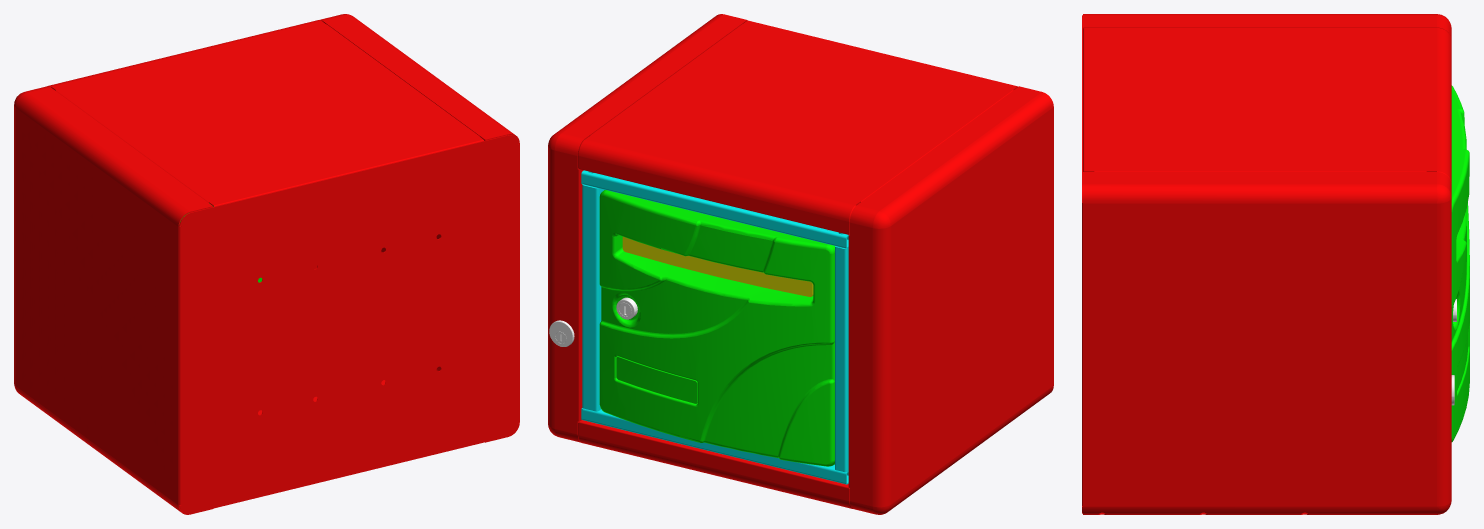
File: elite_A1.glb
3 views of the same model, side by side, from view 1: azimuth 30°, elevation 25°; view 2: azimuth 150°, elevation 25°; view 3: azimuth 270°, elevation 25° (orthographic). The views are drawn at different scales.
Parts seen in each view (by area): view 1: TOLE FOND coffre arrondie A1, TOLE DROITE coffre arrondie 1, TOLE DESSUS coffre arrondie A, TOLE GAUCHE coffre arrondie 1_Défaut<Brut d''usinage>; view 2: TOLE DROITE coffre arrondie 1, TOLE DESSUS coffre arrondie A, facade portillon élite, TOLE GAUCHE coffre arrondie 1_Défaut<Brut d''usinage>, TOLE DESSUS coffre arrondie A_node, TOLE PLIEE CROCHET CADRE 1, TUBE DESSUS CADRE A, TUBE COTEE CADRE 1_node, volet élite, TUBE DESSOUS CADRE A, porte étiquette élite; view 3: TOLE GAUCHE coffre arrondie 1_Défaut<Brut d''usinage>, TOLE DESSUS coffre arrondie A, facade portillon élite, TOLE DROITE coffre arrondie 1, TOLE FOND coffre arrondie A1.
Boxes of the visible parts, x1,y1,x2,y2 form: TOLE FOND coffre arrondie A1: (179,135,519,514); TOLE DROITE coffre arrondie 1: (14,86,213,514); TOLE DESSUS coffre arrondie A: (47,20,483,206); TOLE GAUCHE coffre arrondie 1_Défaut<Brut d''usinage>: (313,14,519,442); TOLE DROITE coffre arrondie 1: (848,86,1053,514); TOLE DESSUS coffre arrondie A: (578,20,1017,234); facade portillon élite: (599,190,834,466); TOLE GAUCHE coffre arrondie 1_Défaut<Brut d''usinage>: (548,14,747,442); TOLE DESSUS coffre arrondie A_node: (578,420,852,508); TOLE PLIEE CROCHET CADRE 1: (581,170,604,419); TUBE DESSUS CADRE A: (583,170,848,248); TUBE COTEE CADRE 1_node: (835,246,848,472); volet élite: (622,236,813,296); TUBE DESSOUS CADRE A: (583,408,848,484); porte étiquette élite: (616,356,697,403); TOLE GAUCHE coffre arrondie 1_Défaut<Brut d''usinage>: (1083,172,1451,514); TOLE DESSUS coffre arrondie A: (1083,28,1451,183); facade portillon élite: (1451,85,1469,441); TOLE DROITE coffre arrondie 1: (1083,14,1451,38); TOLE FOND coffre arrondie A1: (1082,15,1083,513).
Size of the model in its own units: 424 by 359 by 383.
